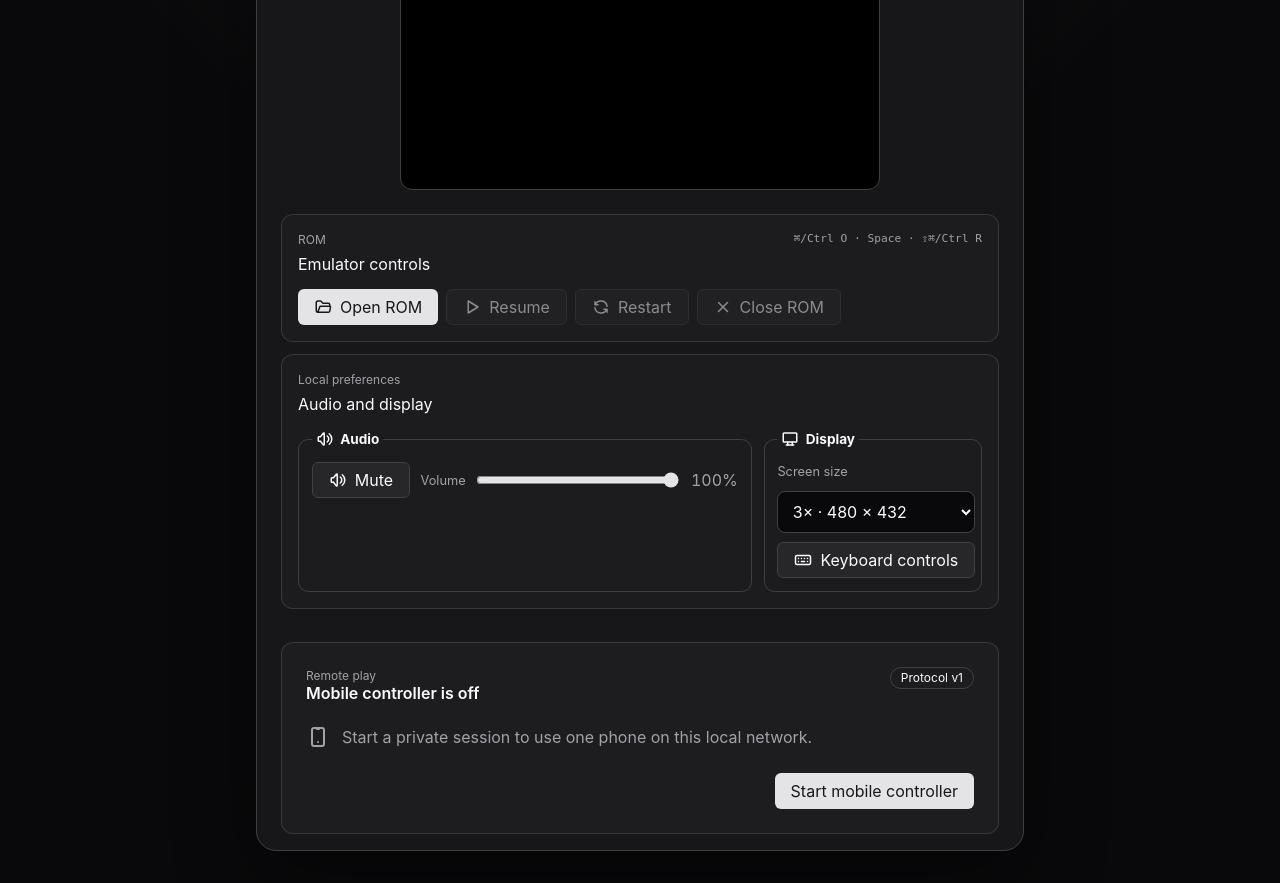
EmulatorPage lifecycle › loads persisted controls into the dialog
The image size is (1280, 883).
(page scrolled)
Click the button "Keyboard controls" at (876, 560), box top-left (777, 542), bottom-right (975, 578)
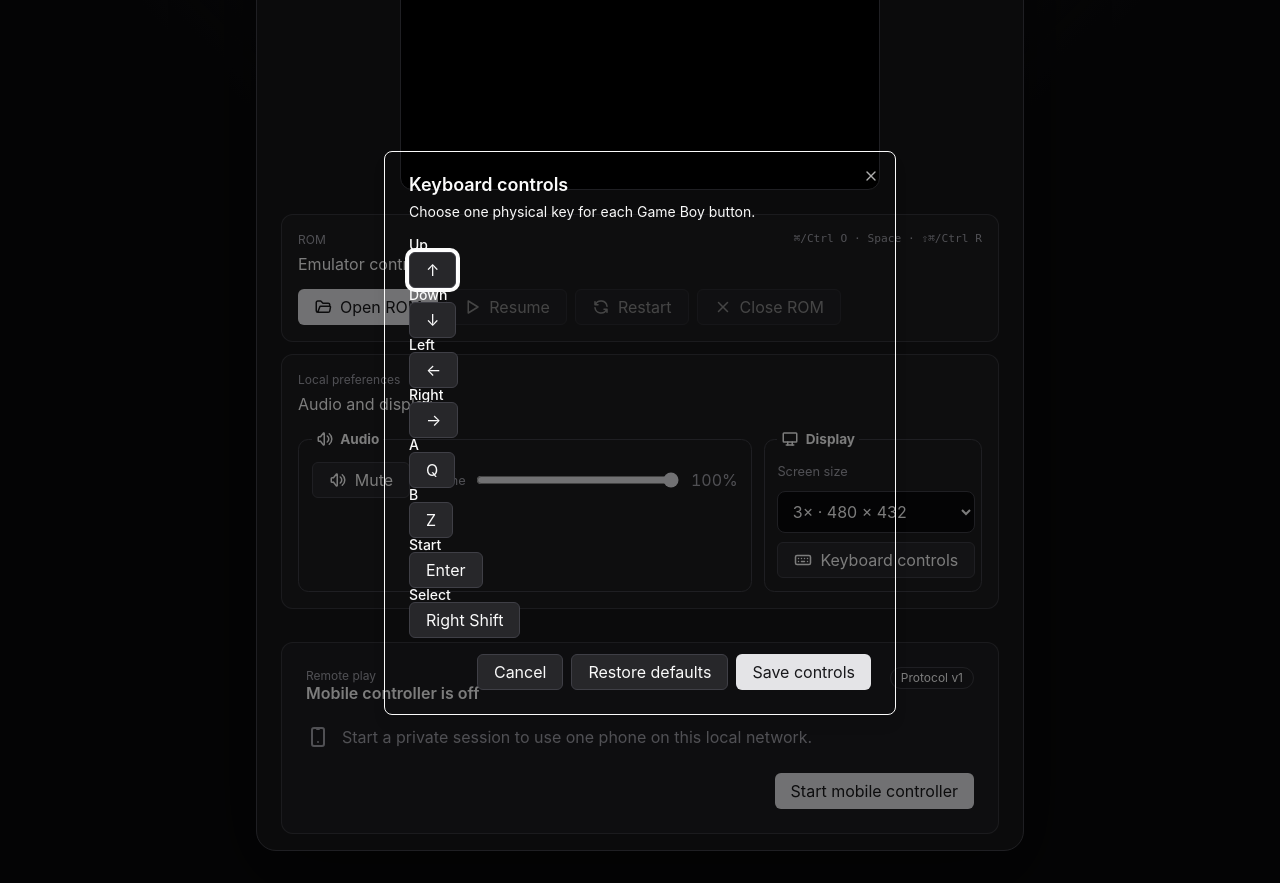
Expected: the button named "A: Q" is shown, top-left (409, 452), bottom-right (455, 488)
